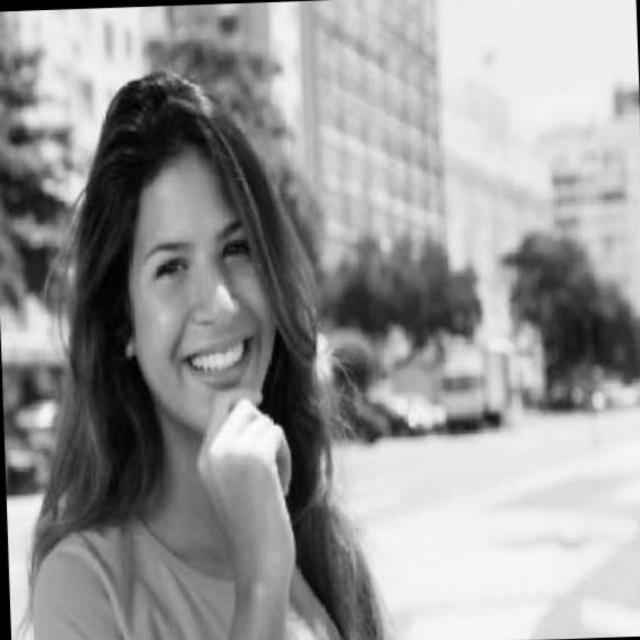Happy: (99, 74, 293, 473)
